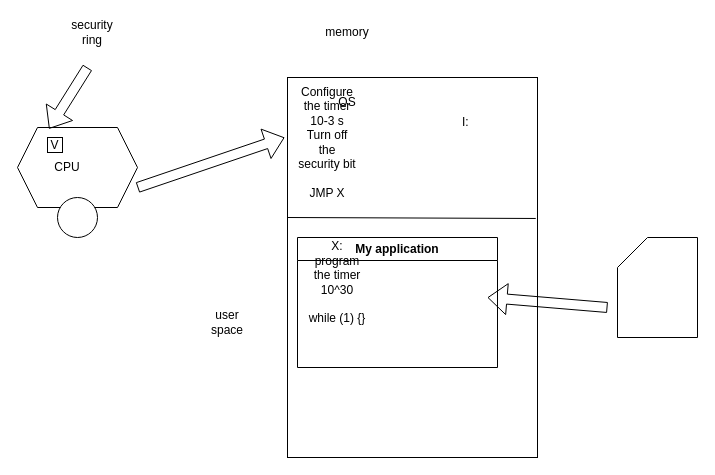
This 715x475 diagram has some shape labels left out. The centre of each missing label's shape, as x and y in pixels:
"MY application.c" goes at point 657,287.
"timer" goes at point 77,217.
